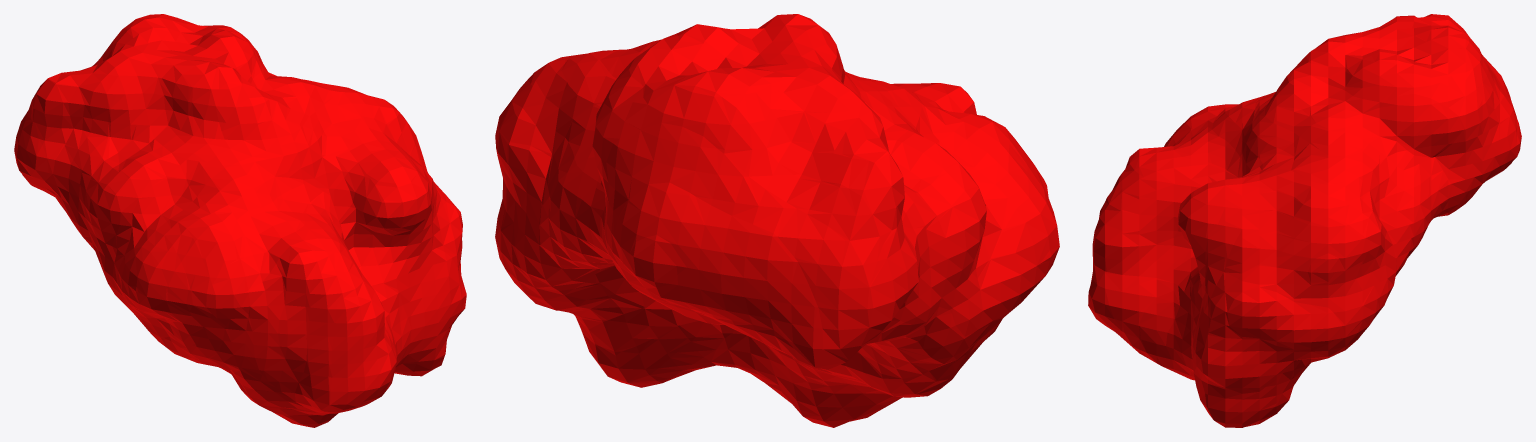
The model's file is tldD_coarse.dae.
3 views of the same model, side by side, from view 1: azimuth 30°, elevation 25°; view 2: azimuth 150°, elevation 25°; view 3: azimuth 270°, elevation 25° (orthographic). The views are drawn at different scales.
Visible parts, largest first — view 1: tldD; view 2: tldD; view 3: tldD.
Part boxes in pixels (left/top/right/bottom): tldD: left=14, top=14, right=466, bottom=427; tldD: left=495, top=14, right=1059, bottom=427; tldD: left=1088, top=14, right=1521, bottom=427.
Bounding box in the file's own units: 65.28 × 61.12 × 72.77.
